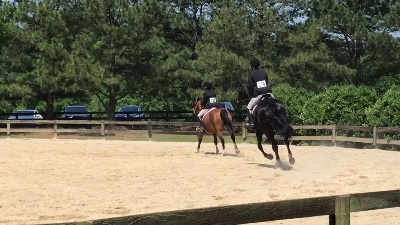jetta: (234, 80, 299, 172)
